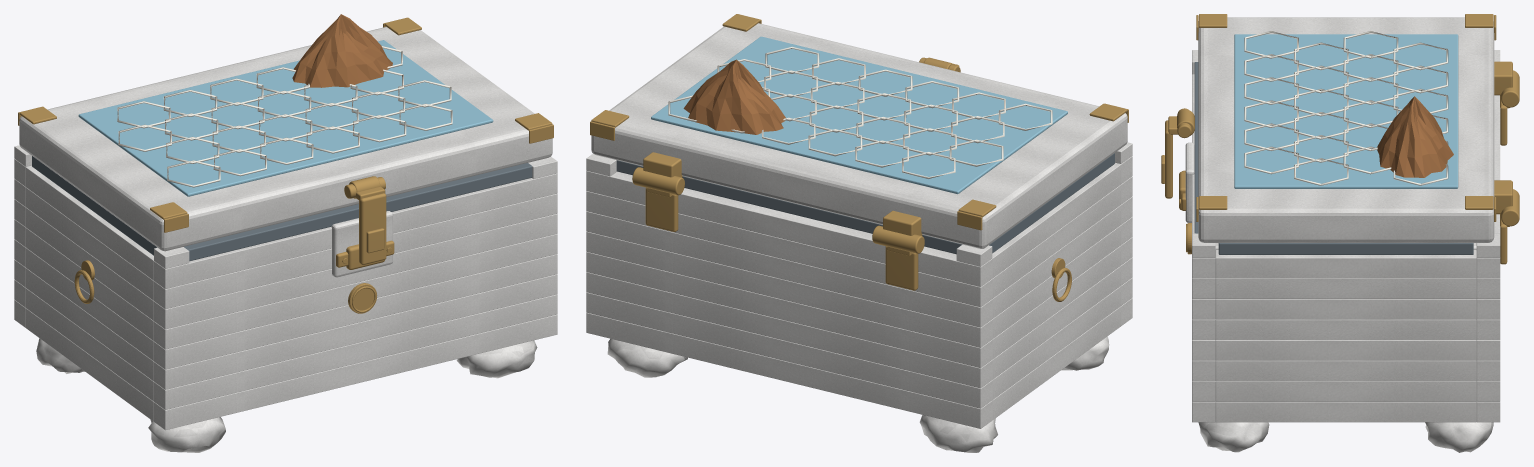
File: bolivia.glb
3 views of the same model, side by side, from view 1: azimuth 30°, elevation 25°; view 2: azimuth 150°, elevation 25°; view 3: azimuth 270°, elevation 25° (orthographic). The views are drawn at different scales.
Visible parts, largest first — view 1: Lid / polished slab, Uyuni / sky inset, Salt body / long course 1, Salt body / long course 2, Salt body / long course 0, Salt body / long course 3, Salt body / long course 4, Salt body / long course 5, Salt body / long course 7, Salt body / long course 6, Mineral seam / long, Uyuni / Tunupa relief (+16 smaller); view 2: Lid / polished slab, Uyuni / sky inset, Salt body / long course 7.001, Salt body / long course 1.001, Salt body / long course 2.001, Salt body / long course 4.001, Salt body / long course 0.001, Salt body / long course 3.001, Salt body / long course 5.001, Salt body / long course 6.001, Uyuni / Tunupa relief, Salt body / end course 7 (+19 smaller); view 3: Lid / polished slab, Uyuni / sky inset, Salt body / end course 7.001, Salt body / end course 2.001, Salt body / end course 1.001, Salt body / end course 3.001, Salt body / end course 4.001, Salt body / end course 6.001, Salt body / end course 0.001, Salt body / end course 5.001, Uyuni / Tunupa relief, Mineral seam / side.001 (+31 smaller).
Part boxes in pixels (x1,y1,x2,y2): Lid / polished slab: (19, 26, 552, 251); Uyuni / sky inset: (78, 40, 493, 196); Salt body / long course 1: (154, 294, 557, 409); Salt body / long course 2: (154, 274, 557, 389); Salt body / long course 0: (154, 314, 557, 430); Salt body / long course 3: (154, 254, 557, 369); Salt body / long course 4: (154, 234, 557, 349); Salt body / long course 5: (154, 214, 557, 329); Salt body / long course 7: (154, 173, 557, 288); Salt body / long course 6: (154, 193, 557, 309); Mineral seam / long: (184, 163, 532, 261); Uyuni / Tunupa relief: (292, 14, 392, 87); Lid / polished slab: (591, 23, 1127, 248); Uyuni / sky inset: (651, 36, 1067, 194); Salt body / long course 7.001: (586, 170, 992, 286); Salt body / long course 1.001: (586, 292, 992, 408); Salt body / long course 2.001: (586, 272, 992, 388); Salt body / long course 4.001: (586, 231, 992, 347); Salt body / long course 0.001: (586, 312, 992, 428); Salt body / long course 3.001: (586, 252, 992, 368); Salt body / long course 5.001: (586, 211, 992, 327); Salt body / long course 6.001: (586, 191, 992, 307); Uyuni / Tunupa relief: (683, 59, 785, 134); Salt body / end course 7: (992, 163, 1120, 278); Lid / polished slab: (1198, 17, 1494, 242); Uyuni / sky inset: (1234, 34, 1458, 188); Salt body / end course 7.001: (1215, 250, 1476, 278); Salt body / end course 2.001: (1215, 360, 1476, 381); Salt body / end course 1.001: (1215, 381, 1476, 401); Salt body / end course 3.001: (1215, 340, 1476, 360); Salt body / end course 4.001: (1215, 319, 1476, 339); Salt body / end course 6.001: (1215, 278, 1476, 298); Salt body / end course 0.001: (1215, 402, 1476, 422); Salt body / end course 5.001: (1215, 299, 1476, 319); Uyuni / Tunupa relief: (1377, 96, 1453, 177); Mineral seam / side.001: (1218, 243, 1473, 254).
Bounding box in the file's own units: 3.79 × 2.83 × 2.88.
Materials: 6 (1 with a texture image).
